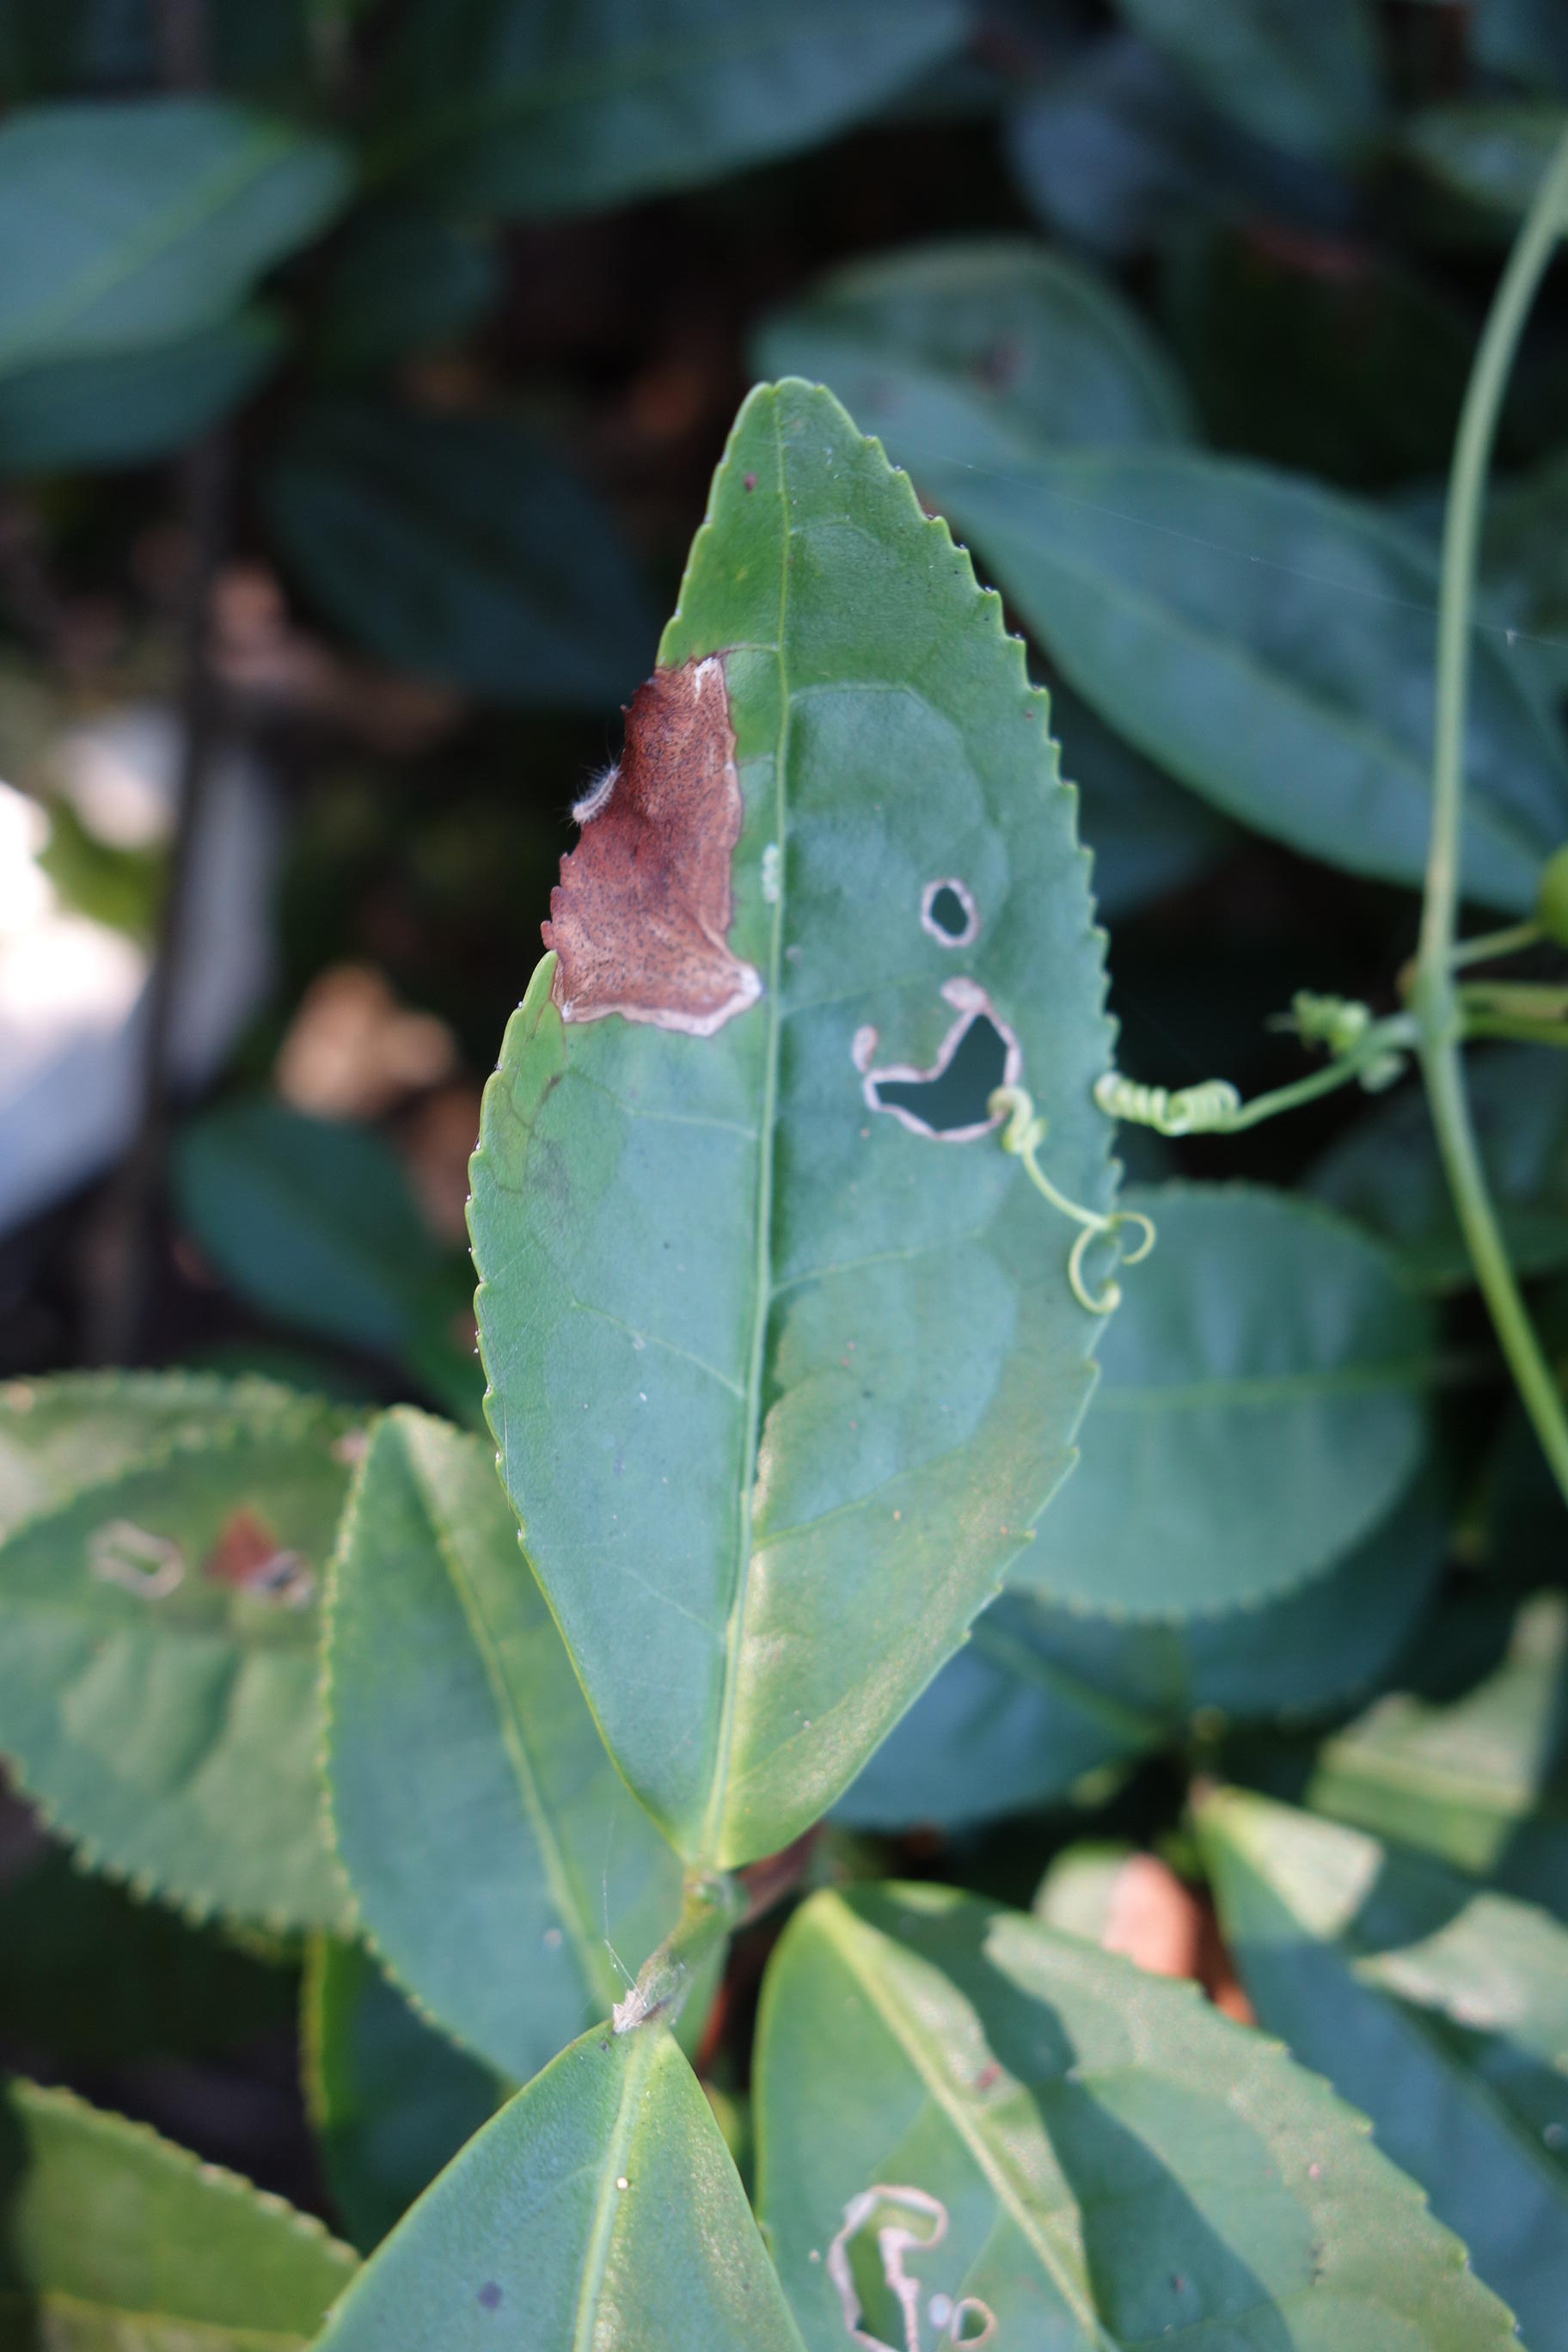chihuo_high: (756, 1879, 1531, 2352)
tanju_high: (460, 371, 1120, 1878)
